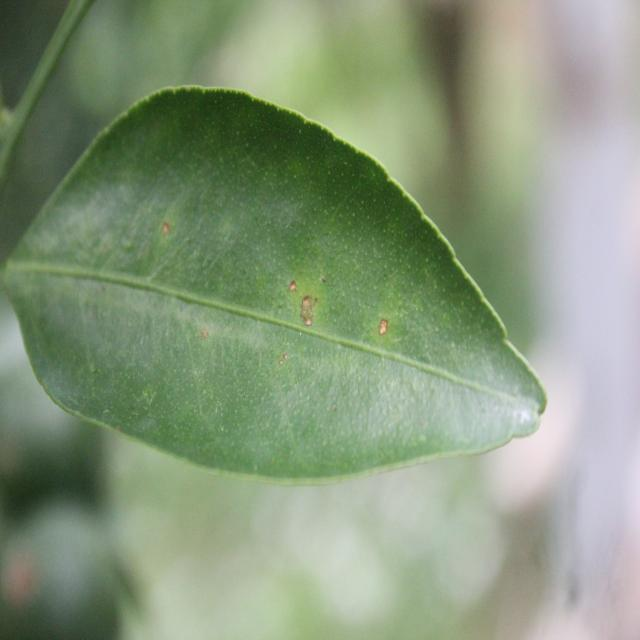canker: (120, 202, 433, 435)
